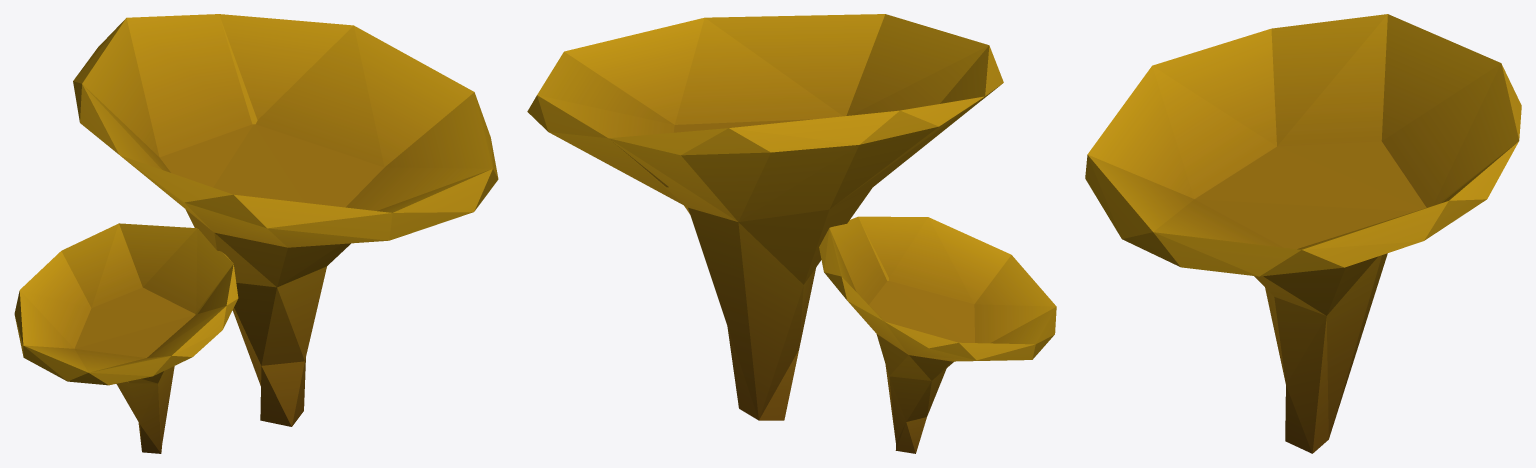
Rendered from SM_Nature_Mushoom_02.fbx.
The picture shows the model from 3 angles, left to right: view 1: azimuth 30°, elevation 25°; view 2: azimuth 150°, elevation 25°; view 3: azimuth 270°, elevation 25°; orthographic projection. The views are drawn at different scales.
Parts seen in each view (by area): view 1: SM_Nature_Mushoom_02; view 2: SM_Nature_Mushoom_02; view 3: SM_Nature_Mushoom_02.
Boxes of the visible parts, bbox=[...] form: SM_Nature_Mushoom_02: bbox=[14, 14, 498, 453]; SM_Nature_Mushoom_02: bbox=[527, 14, 1056, 453]; SM_Nature_Mushoom_02: bbox=[1085, 14, 1521, 453].
Bounding box in the file's own units: 35.83 × 26.95 × 30.36.
